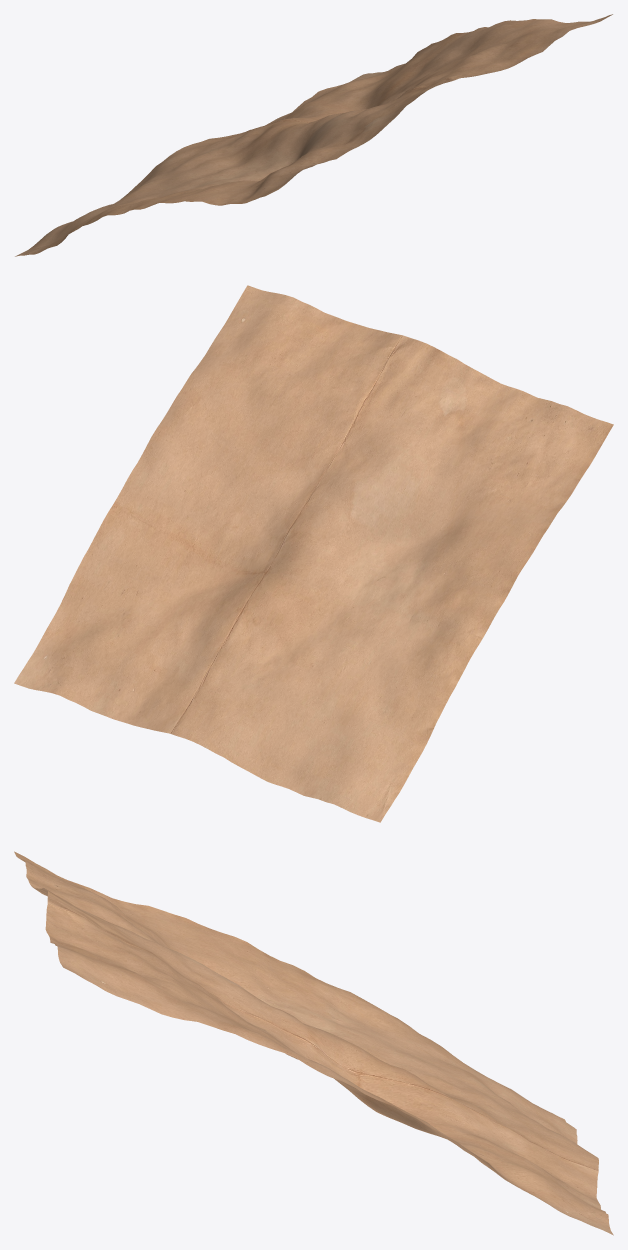
File: Note 1.fbx
3 views of the same model, one above another, from view 1: azimuth 30°, elevation 25°; view 2: azimuth 150°, elevation 25°; view 3: azimuth 270°, elevation 25° (orthographic). The views are drawn at different scales.
Parts seen in each view (by area): view 1: Cube; view 2: Cube; view 3: Cube.
Boxes of the visible parts, box(x1,y1,x2,y2) form: Cube: box(15, 14, 612, 256); Cube: box(14, 285, 613, 822); Cube: box(14, 851, 613, 1235).
Bounding box in the file's own units: 31 × 25.15 × 38.98.
